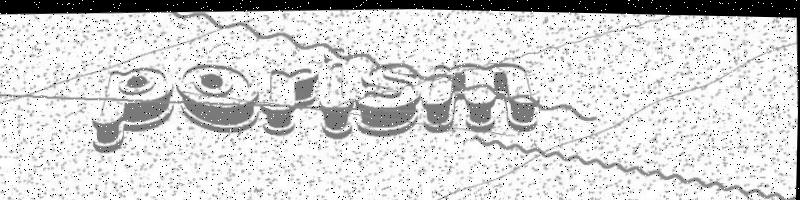i: (317, 44, 357, 139)
m: (419, 56, 541, 133)
o: (174, 60, 262, 135)
p: (90, 64, 177, 156)
r: (259, 65, 320, 136)
s: (354, 60, 422, 137)
